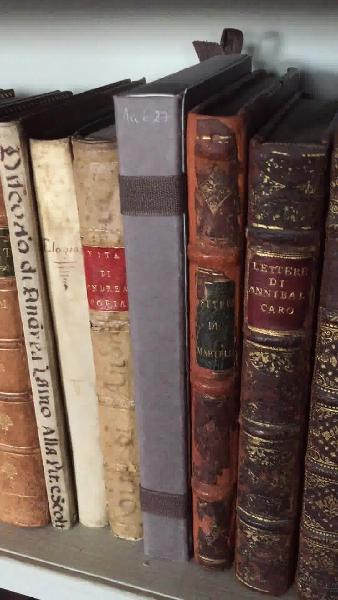Aa6-24: (1, 123, 80, 527)
Aa6-25: (27, 134, 107, 531)
Aa6-26: (72, 134, 142, 547)
Aa6-27: (113, 89, 186, 566)
Aa6-28: (186, 113, 244, 575)
Aa6-29: (225, 146, 317, 576)
